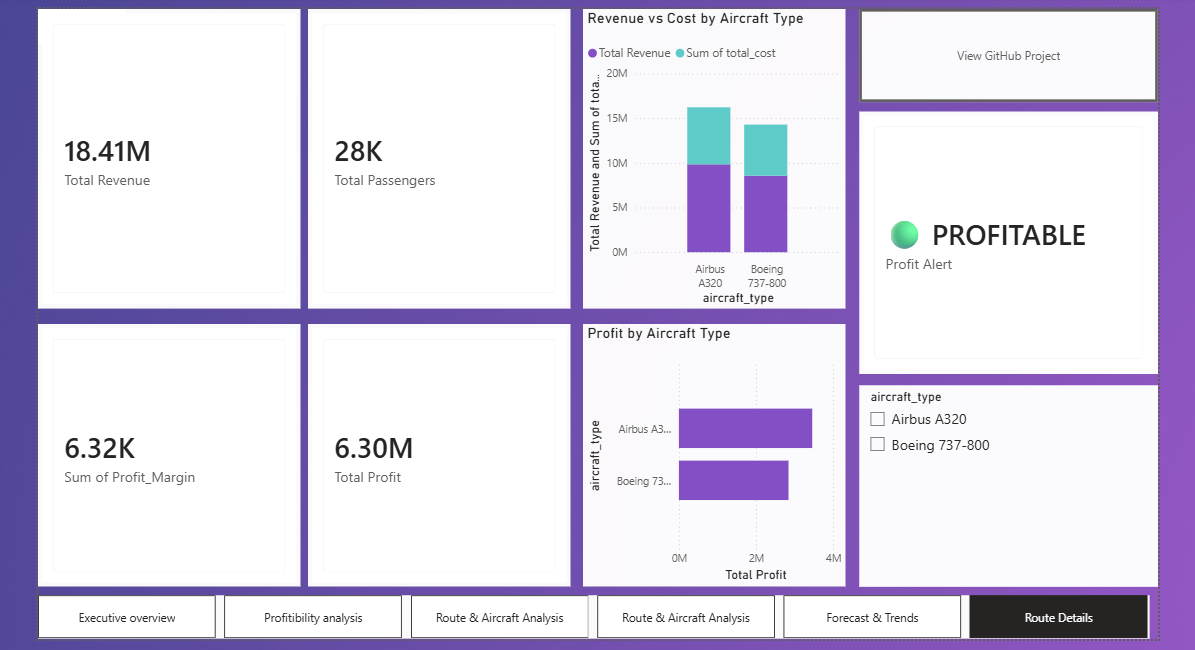

This screenshot's page, from the dashboard's own definition file:
{"tool":"powerbi","page":{"name":"Route Details","canvas":[1280,720],"ordinal":5},"visuals":[{"type":"actionButton","box":[0,0,100,40],"z":0},{"type":"cardVisual","fields":{"Data":["Airline Data.Total Revenue"]},"box":[0,0,300,342.5],"z":1000},{"type":"cardVisual","fields":{"Data":["Airline Data.Total Passengers"]},"box":[308.8,0,300,342.5],"z":2000},{"type":"cardVisual","fields":{"Data":["Sum(airline_cleaned.Profit_Margin)"]},"box":[0,360,300,300],"z":3000},{"type":"cardVisual","fields":{"Data":["Airline Data.Total Profit"]},"box":[308.8,360,300,300],"z":4000},{"type":"columnChart","title":"Revenue vs Cost by Aircraft Type","fields":{"Category":["Airline Data.aircraft_type"],"Y":["Airline Data.Total Revenue","Sum(Airline Data.total_cost)"]},"box":[622.5,0,300,342.5],"z":5000},{"type":"clusteredBarChart","title":"Profit by Aircraft Type","fields":{"Category":["Airline Data.aircraft_type"],"Y":["Airline Data.Total Profit"]},"box":[622.5,360,300,300],"z":6000},{"type":"cardVisual","fields":{"Data":["Airline Data.Profit Alert"]},"box":[938.8,117.5,341.2,300],"z":7000},{"type":"slicer","fields":{"Values":["Airline Data.aircraft_type"]},"box":[938.8,430,341.2,230],"z":8000},{"type":"actionButton","box":[938.8,0,341.2,106.2],"z":9000},{"type":"pageNavigator","box":[0,670.6,1270.7,49.4],"z":9001}]}

Visuals, with their boxes on the page's 1280x720 design canvas (x1, y1, x2, y2). These are canvas units, not pixel positions in the 1195x650 screenshot, which may show the page scaled, cropped or inside an application window:
actionButton: (x1=0, y1=0, x2=100, y2=40)
cardVisual - Airline Data.Total Revenue: (x1=0, y1=0, x2=300, y2=342)
cardVisual - Airline Data.Total Passengers: (x1=309, y1=0, x2=609, y2=342)
cardVisual - Sum(airline_cleaned.Profit_Margin): (x1=0, y1=360, x2=300, y2=660)
cardVisual - Airline Data.Total Profit: (x1=309, y1=360, x2=609, y2=660)
"Revenue vs Cost by Aircraft Type" columnChart: (x1=622, y1=0, x2=922, y2=342)
"Profit by Aircraft Type" clusteredBarChart: (x1=622, y1=360, x2=922, y2=660)
cardVisual - Airline Data.Profit Alert: (x1=939, y1=118, x2=1280, y2=418)
slicer - Airline Data.aircraft_type: (x1=939, y1=430, x2=1280, y2=660)
actionButton: (x1=939, y1=0, x2=1280, y2=106)
pageNavigator: (x1=0, y1=671, x2=1271, y2=720)
